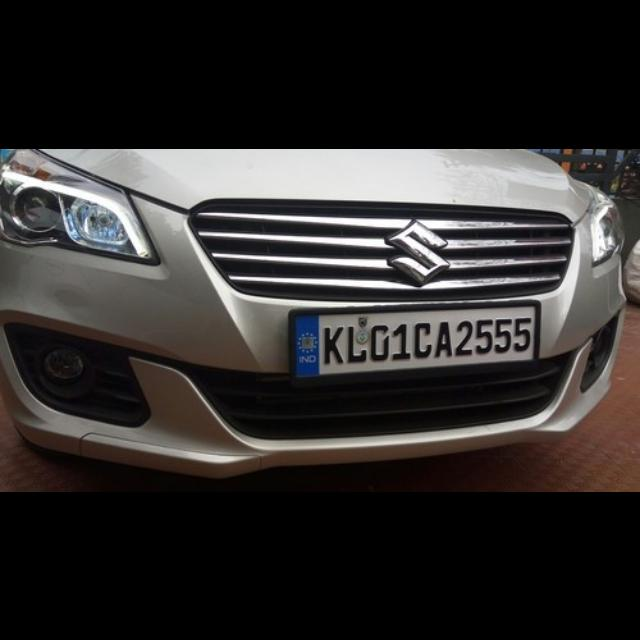carPlate: (289, 298, 541, 387)
